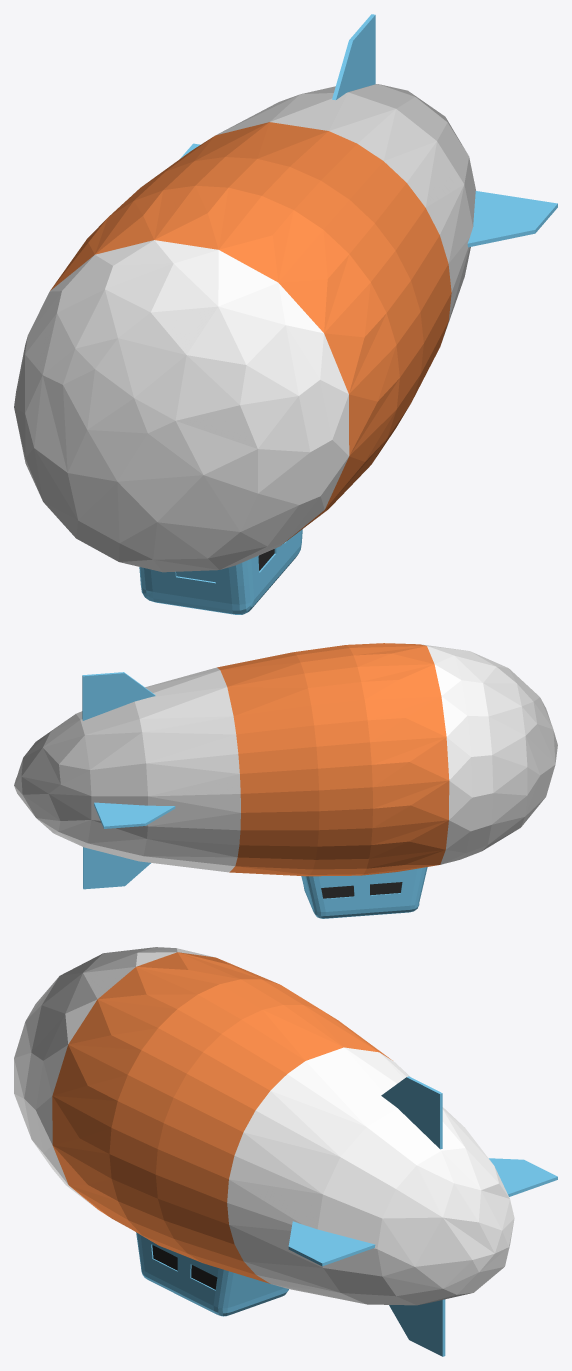
3 renders of one model, top to bottom at view 1: azimuth 30°, elevation 25°; view 2: azimuth 150°, elevation 25°; view 3: azimuth 270°, elevation 25°, orthographic. The views are drawn at different scales.
Parts seen in each view (by area): view 1: Object_5, Object_4, Object_6; view 2: Object_5, Object_4, Object_6, Object_7; view 3: Object_5, Object_4, Object_6, Object_7.
Boxes of the visible parts, x1=… form: Object_5: x1=14, y1=84, x2=475, y2=572; Object_4: x1=50, y1=122, x2=451, y2=543; Object_6: x1=139, y1=14, x2=557, y2=614; Object_5: x1=14, y1=644, x2=557, y2=872; Object_4: x1=217, y1=643, x2=449, y2=876; Object_6: x1=82, y1=672, x2=427, y2=918; Object_7: x1=321, y1=882, x2=402, y2=898; Object_5: x1=14, y1=947, x2=514, y2=1305; Object_4: x1=52, y1=952, x2=392, y2=1283; Object_6: x1=136, y1=1076, x2=557, y2=1356; Object_7: x1=152, y1=1245, x2=217, y2=1289.
Size of the model in its own units: 1096 by 639 by 1021.
